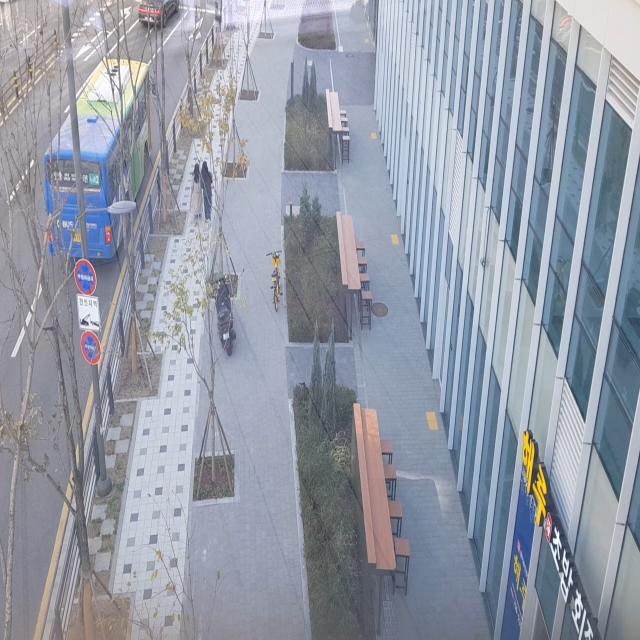Bus: (31, 39, 165, 294)
Car: (134, 0, 186, 28)
